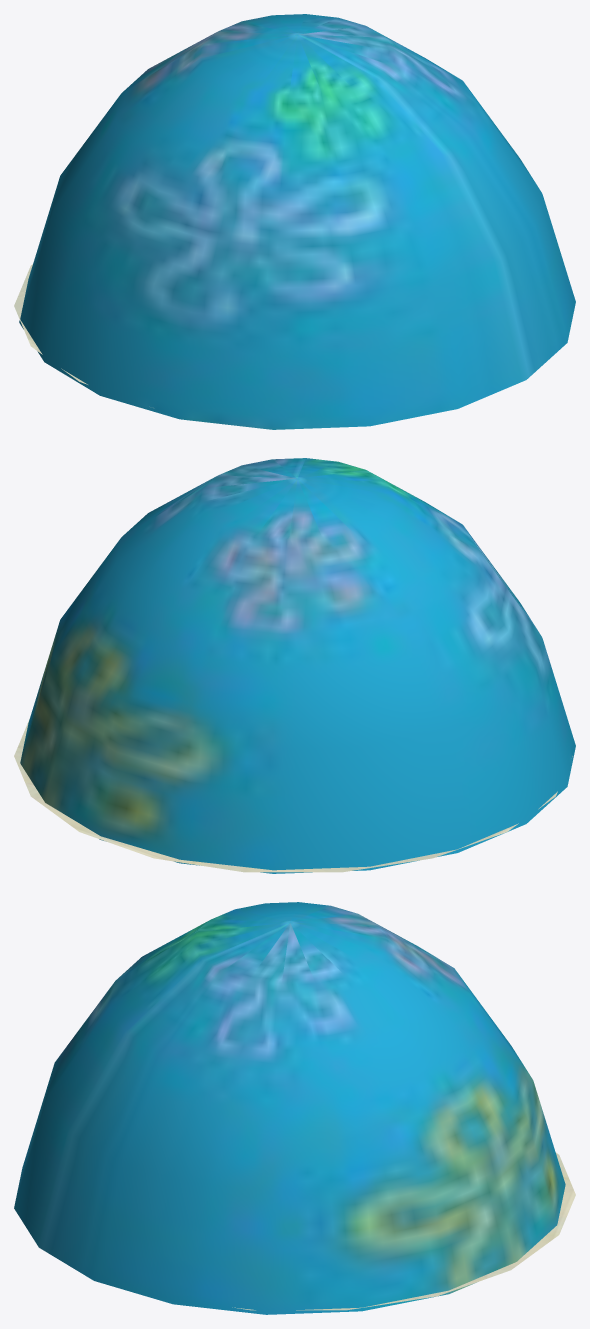
File: patricks-rock-v2-opt1.glb
3 renders of one model, top to bottom at view 1: azimuth 30°, elevation 25°; view 2: azimuth 150°, elevation 25°; view 3: azimuth 270°, elevation 25°, orthographic.
Parts seen in each view (by area): view 1: Skybox; view 2: Skybox, Sand; view 3: Skybox, Sand.
Boxes of the visible parts, box(x1,y1,x2,y2) form: Skybox: box(19, 14, 575, 429); Skybox: box(20, 458, 575, 873); Sand: box(14, 719, 572, 872); Skybox: box(14, 902, 565, 1314); Sand: box(232, 1152, 575, 1310).
Size of the model in its own units: 3.46 by 1.9 by 3.52.
Materials: 6 (5 with a texture image).
